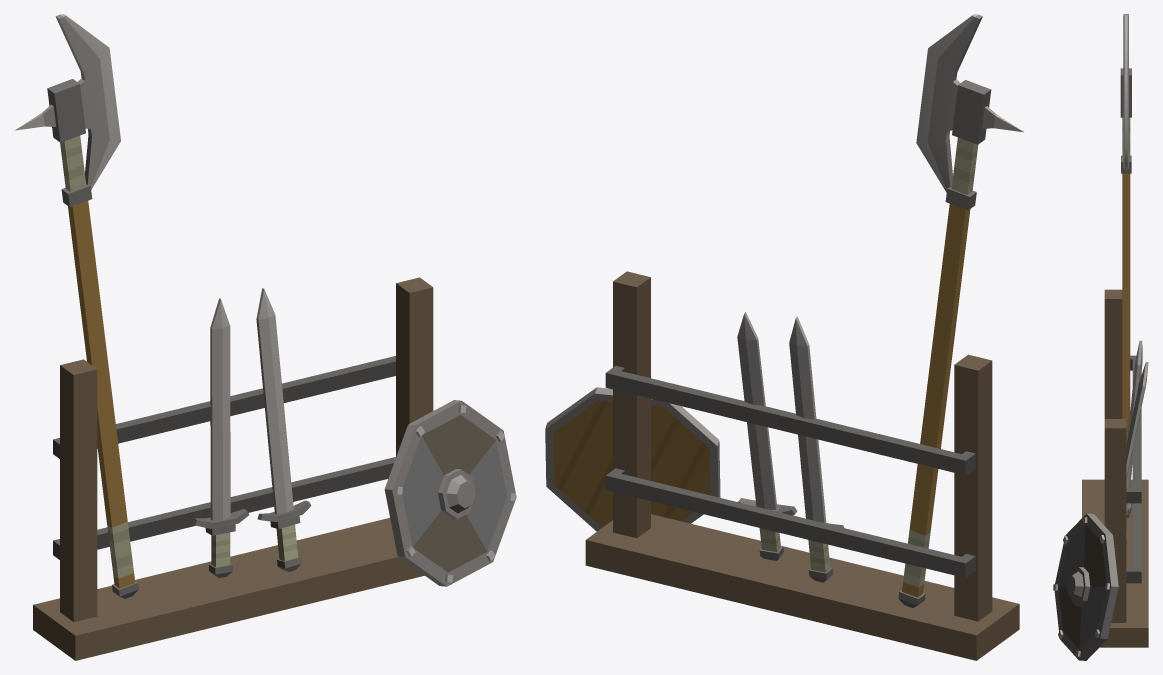
The model's file is SD_Prop_WeaponRack_02.fbx.
3 views of the same model, side by side, from view 1: azimuth 30°, elevation 25°; view 2: azimuth 150°, elevation 25°; view 3: azimuth 270°, elevation 25° (orthographic). The views are drawn at different scales.
Visible parts, largest first — view 1: SD_Prop_WeaponRack_02; view 2: SD_Prop_WeaponRack_02; view 3: SD_Prop_WeaponRack_02.
Part boxes in pixels (x1,y1,x2,y2): SD_Prop_WeaponRack_02: (15, 14, 516, 660); SD_Prop_WeaponRack_02: (545, 14, 1023, 660); SD_Prop_WeaponRack_02: (1053, 14, 1148, 660).
Bounding box in the file's own units: 4.21 × 5.18 × 0.9092.
